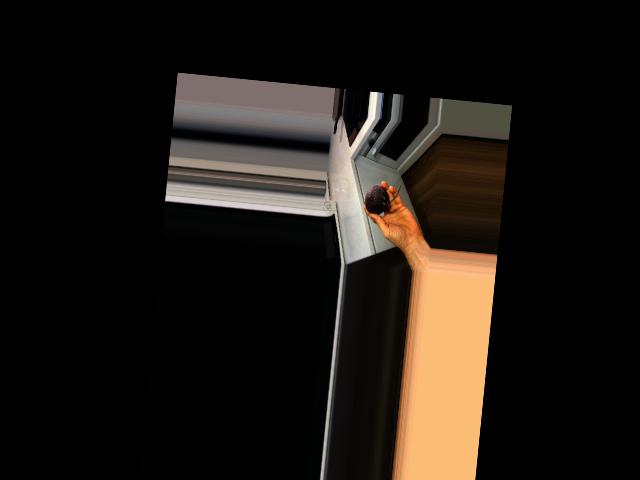beet: (363, 181, 401, 216)
